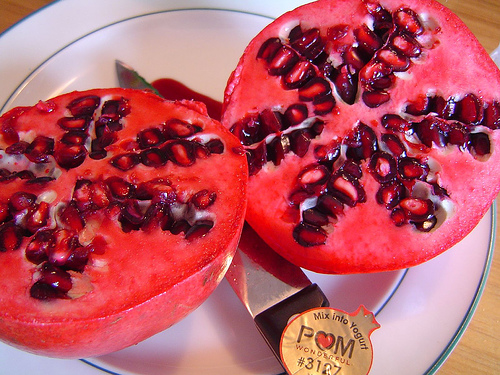pomogranate: (222, 0, 499, 275), (2, 88, 249, 359)
